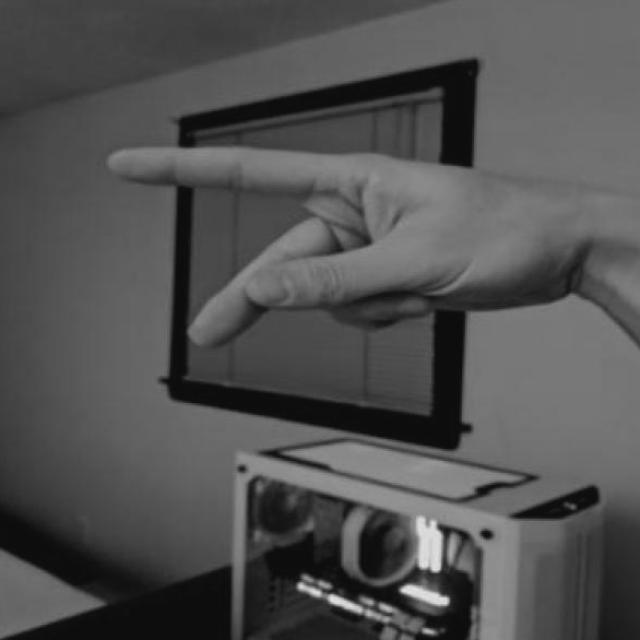P: (96, 108, 640, 380)
